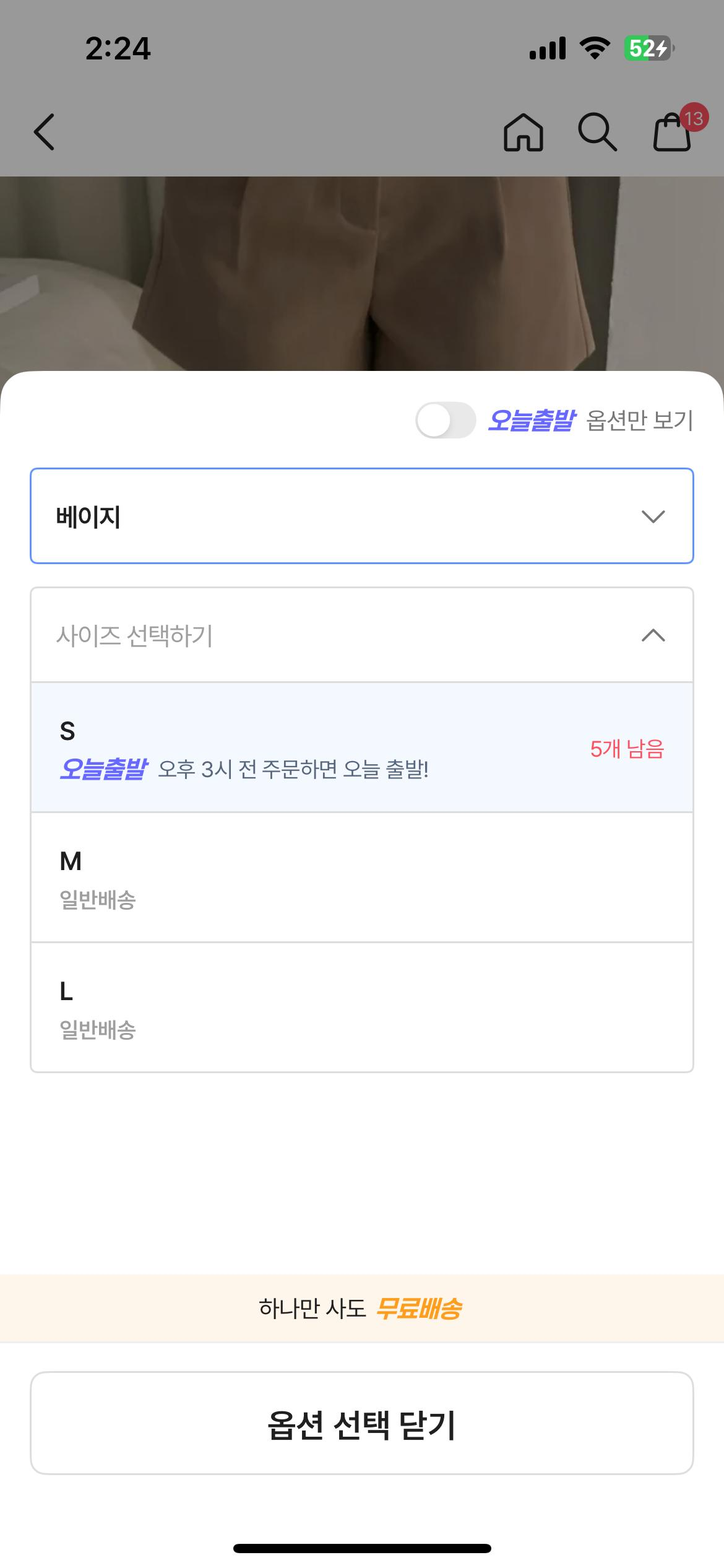button: (37, 811, 703, 937), (33, 941, 697, 1065), (23, 1375, 703, 1478), (37, 704, 693, 809), (485, 101, 553, 161), (580, 403, 703, 433), (644, 101, 705, 159), (561, 103, 619, 163), (19, 105, 62, 167)
checkbox: (35, 586, 689, 700), (21, 471, 693, 564), (404, 390, 483, 440)
